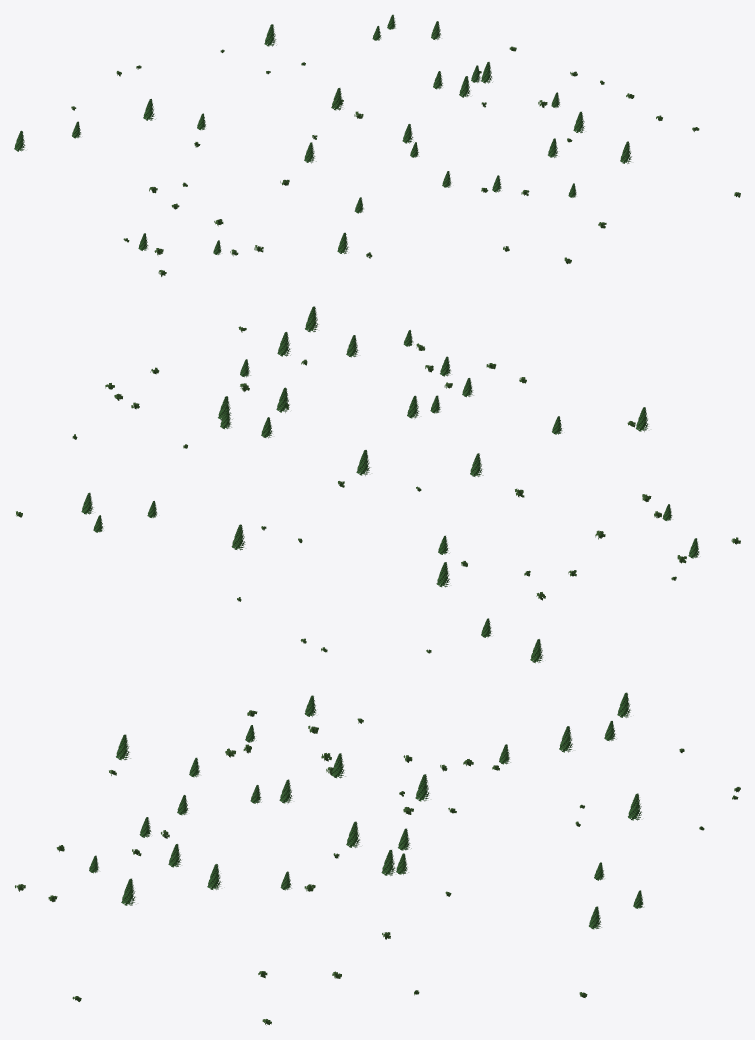
The model's file is arch_canopy_coil_isle.glb.
The picture shows the model from 3 angles, top to bottom: view 1: azimuth 30°, elevation 25°; view 2: azimuth 150°, elevation 25°; view 3: azimuth 270°, elevation 25°; orthographic projection. The views are drawn at different scales.
Visible parts, largest first — view 1: arch_canopy_coil_isle; view 2: arch_canopy_coil_isle; view 3: arch_canopy_coil_isle.
Part boxes in pixels (<box>): arch_canopy_coil_isle: <box>14,14,740,276</box>; arch_canopy_coil_isle: <box>16,306,740,663</box>; arch_canopy_coil_isle: <box>15,692,740,1025</box>.
Size of the model in its own units: 198 by 29.71 by 189.
